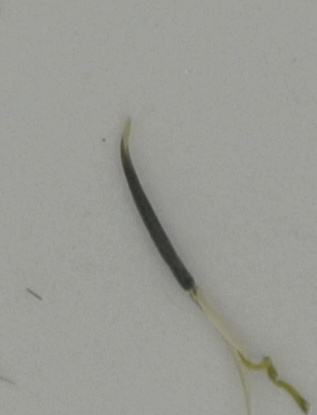เมล็ดดีเรียวยาว: (115, 117, 313, 412)
